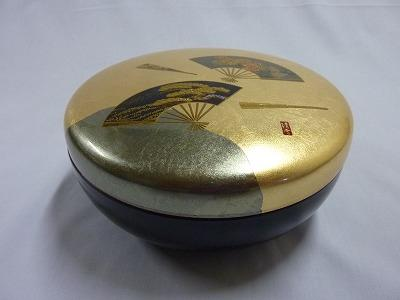metal: (64, 48, 354, 249)
